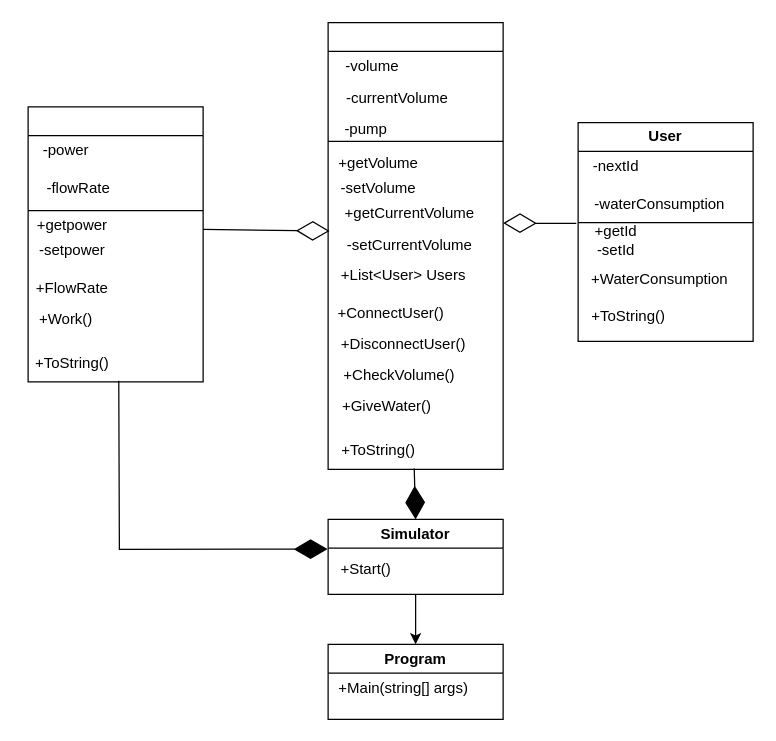
Some shapes in this 776 by 741 pixel diagram are drawn without their labels. The shapes that lost their labels are listed below. From the top down, each one's box as (x1, y1, x2, y2) in pixels, then its label:
(27, 106, 203, 382): Pump
(327, 21, 503, 469): WaterTower
